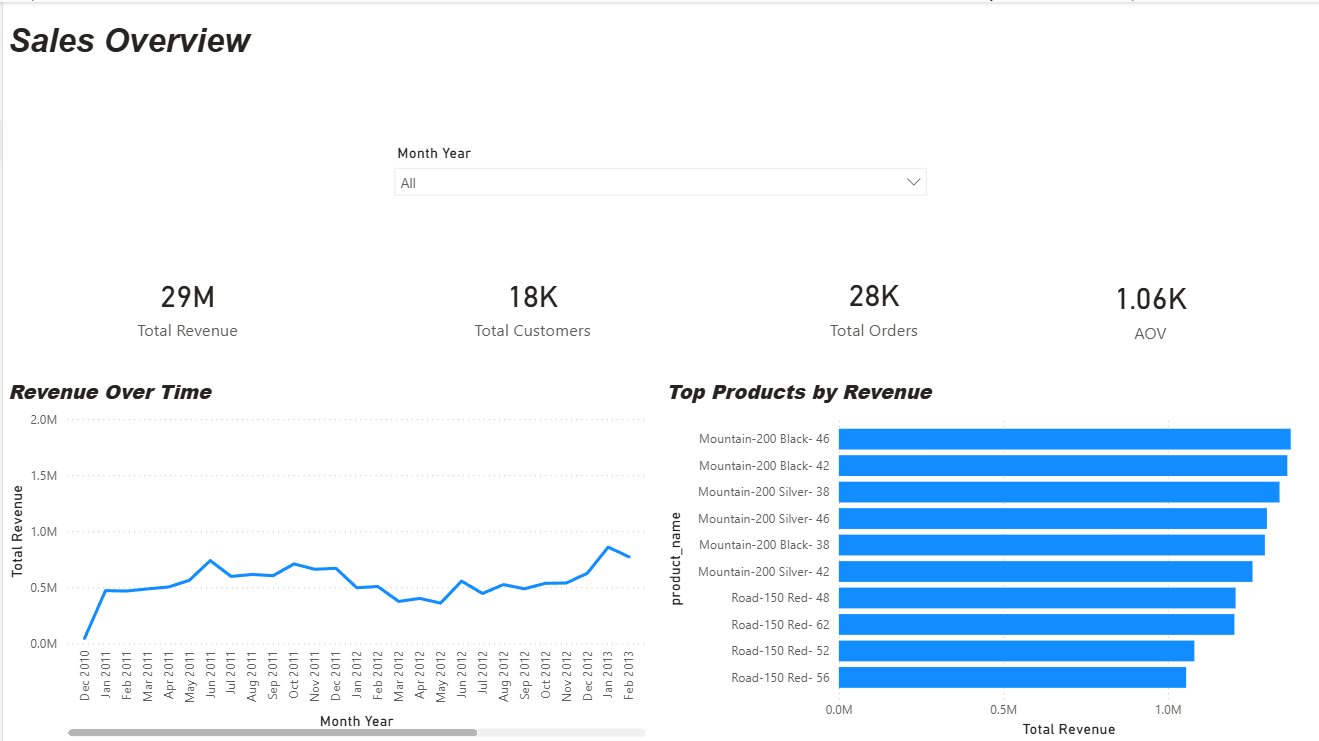

This screenshot's page, from the dashboard's own definition file:
{"tool":"powerbi","page":{"name":"Sales Overview","canvas":[1280,720],"ordinal":0},"visuals":[{"type":"slicer","fields":{"Values":["gold dim_date.Month Year"]},"box":[370.6,133.3,537.9,106],"z":0},{"type":"lineChart","title":"Revenue Over Time","fields":{"Category":["gold dim_date.Month Year"],"Y":["gold fact_sales.Total Revenue"]},"box":[0,364.7,630.3,355],"z":1000},{"type":"card","fields":{"Values":["gold fact_sales.Total Revenue"]},"box":[0,229.5,358.9,130.3],"z":2000},{"type":"card","fields":{"Values":["gold fact_sales.Total Orders"]},"box":[640,233.4,414.3,121.6],"z":3000},{"type":"card","fields":{"Values":["gold fact_sales.Total Customers"]},"box":[339.5,223.7,351.1,142],"z":4000},{"type":"card","fields":{"Values":["gold fact_sales.AOV"]},"box":[952.2,239.3,327.8,115.7],"z":5000},{"type":"barChart","title":"Top Products by Revenue","fields":{"Category":["gold dim_products.product_name"],"Y":["gold fact_sales.Total Revenue"]},"box":[640,364.7,640,355],"z":6000},{"type":"textbox","box":[0,14.6,429.9,57.4],"z":7000}]}

Visuals, with their boxes in screenshot pixels (x1, y1, x2, y2), scaled from the page's 1280x720 canvas onto the 1319x741 screenshot:
slicer - gold dim_date.Month Year: [382,137,936,246]
"Revenue Over Time" lineChart: [0,375,650,740]
card - gold fact_sales.Total Revenue: [0,236,370,370]
card - gold fact_sales.Total Orders: [660,240,1086,365]
card - gold fact_sales.Total Customers: [350,230,712,376]
card - gold fact_sales.AOV: [981,246,1318,365]
"Top Products by Revenue" barChart: [660,375,1318,740]
textbox: [0,15,443,74]
